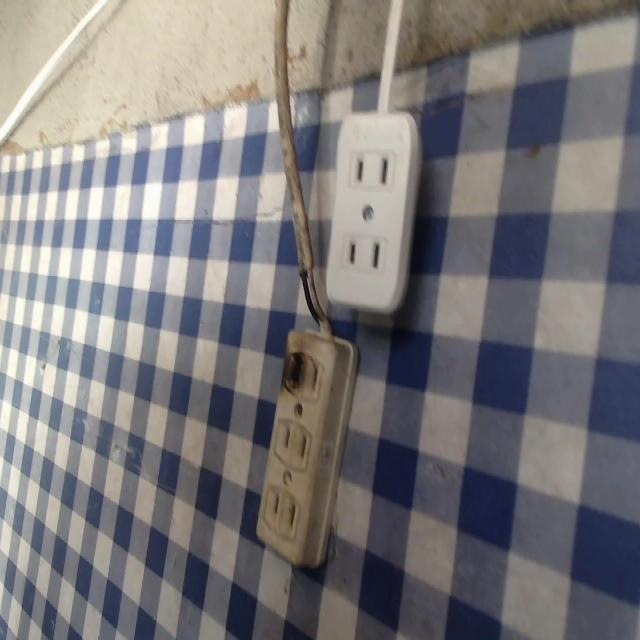-: (276, 342, 309, 394)
